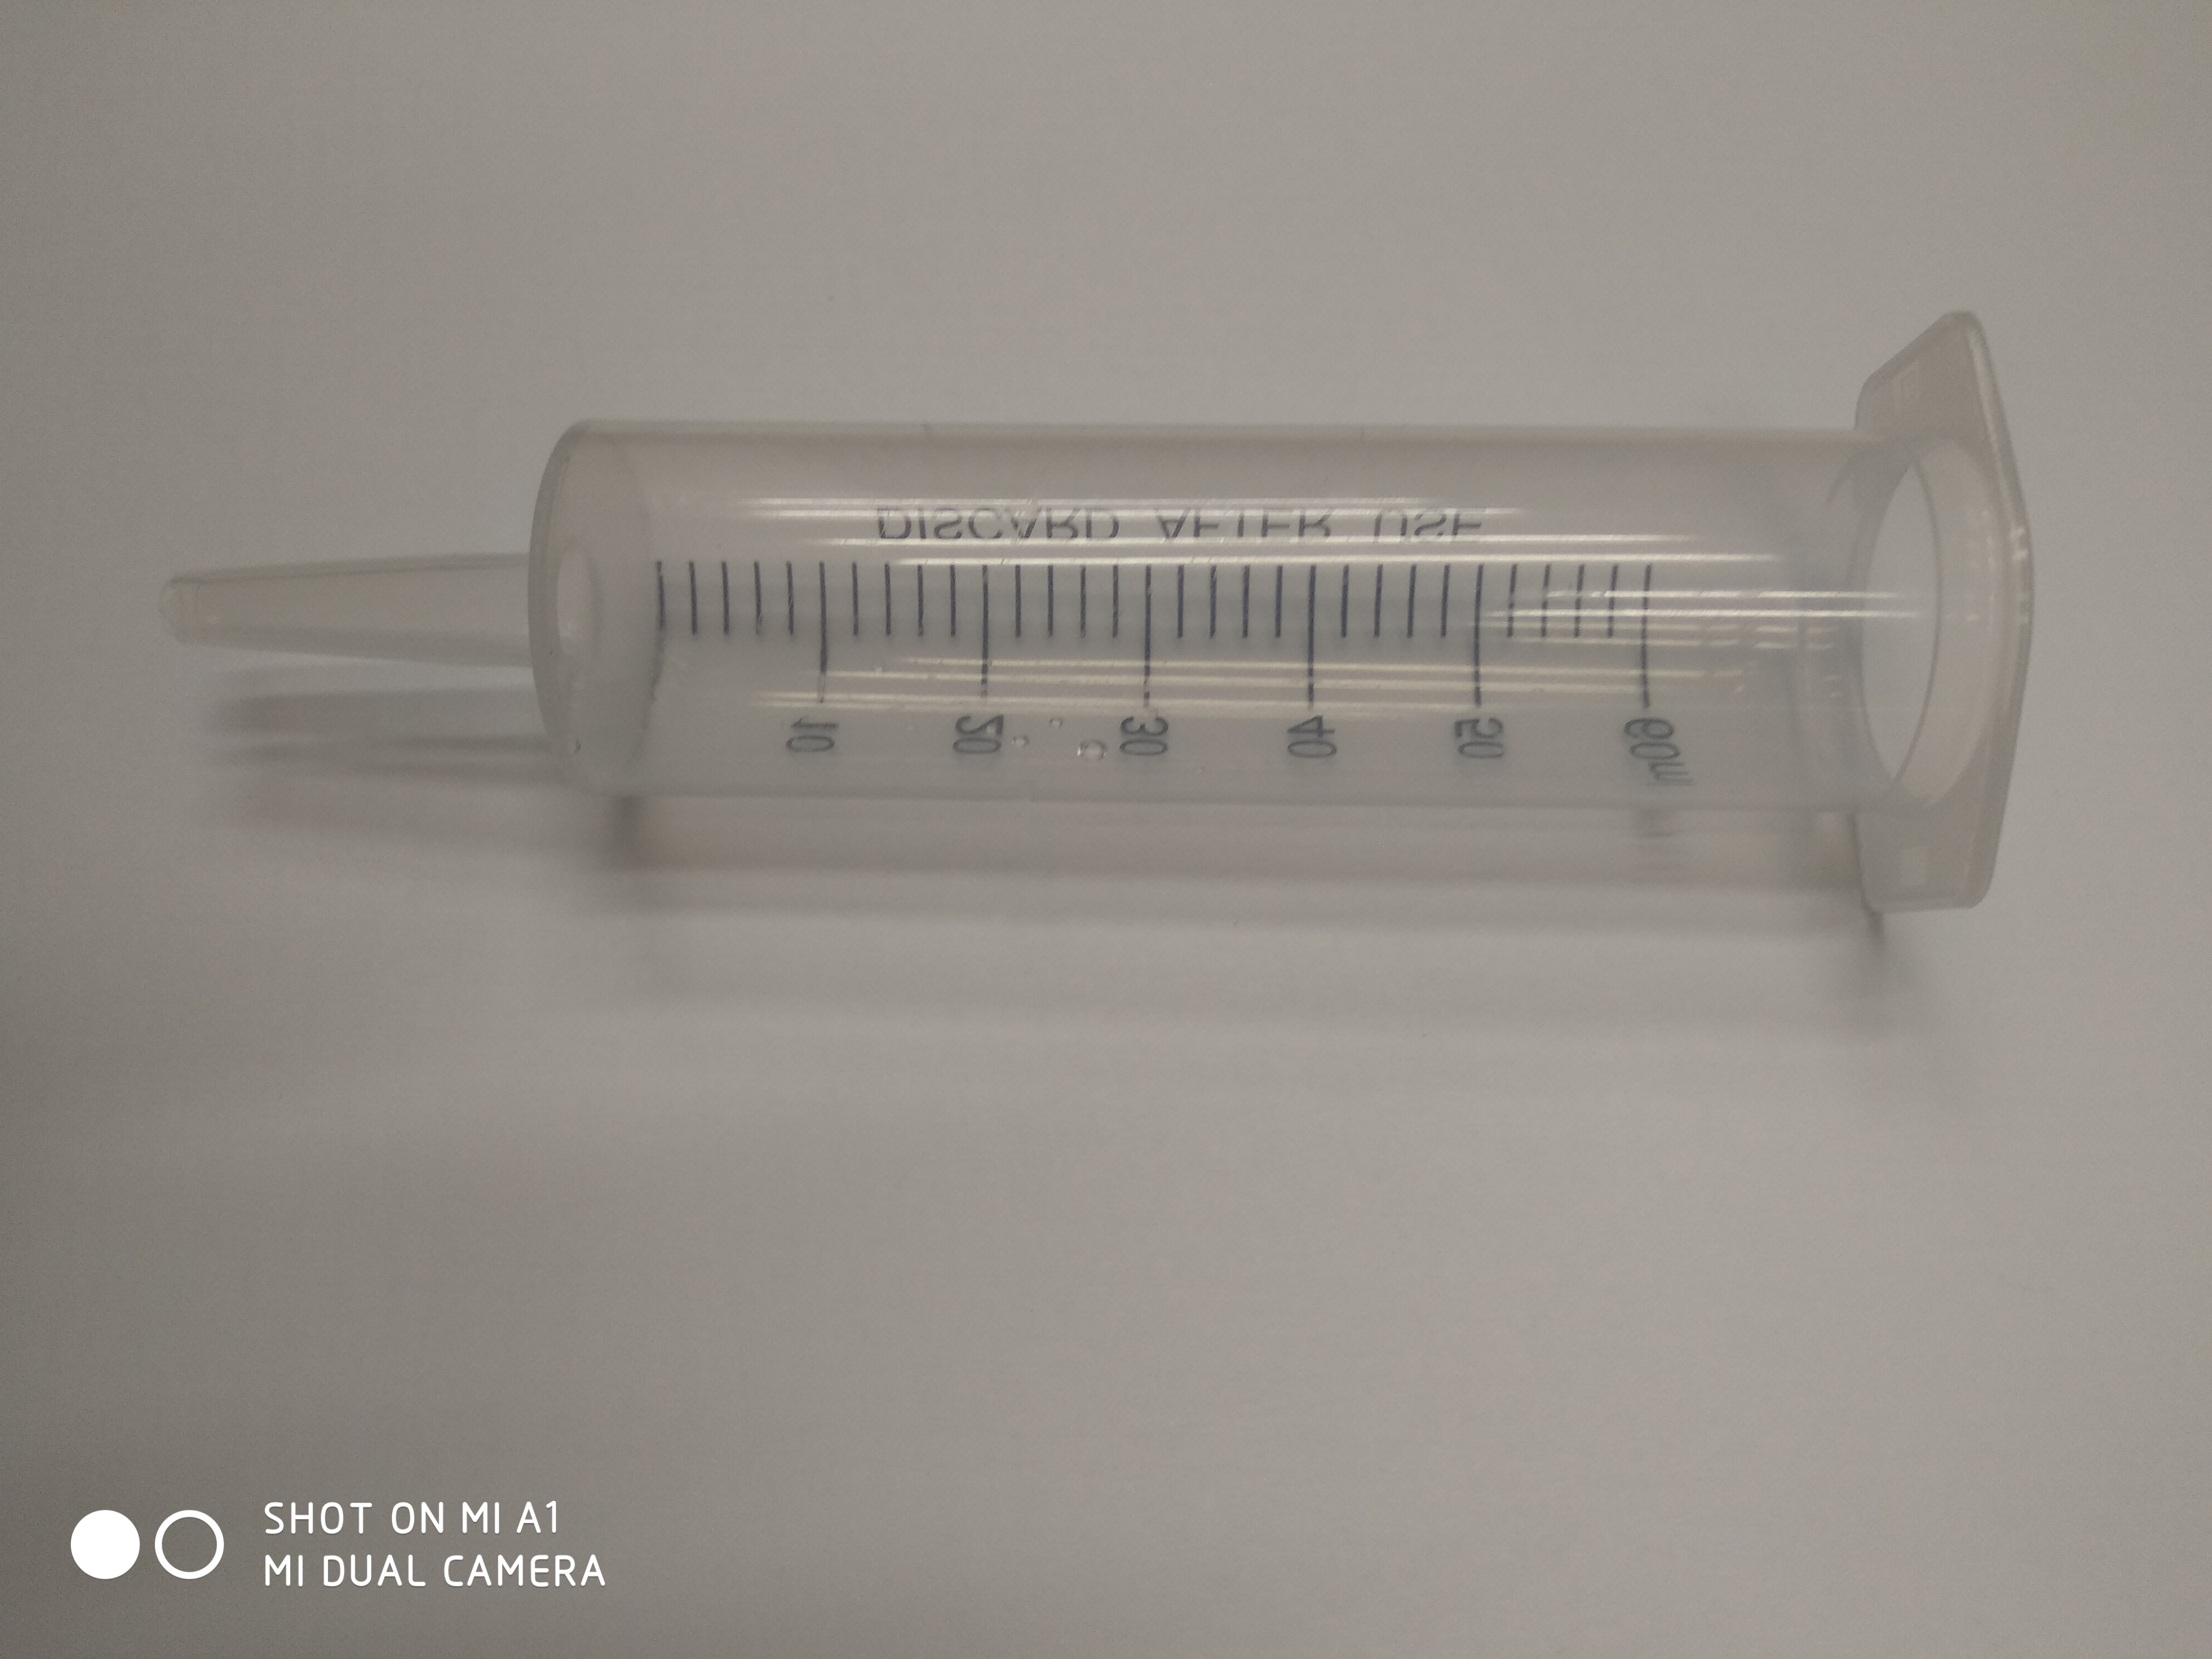syringe: (152, 298, 2041, 925)
